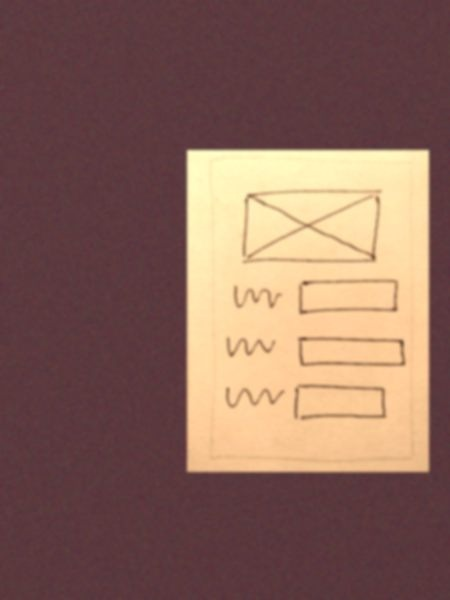image: (237, 186, 385, 267)
text: (226, 282, 290, 315), (218, 383, 286, 414), (224, 331, 283, 362)
text_input: (290, 381, 393, 428), (295, 332, 408, 371), (294, 275, 402, 315)
